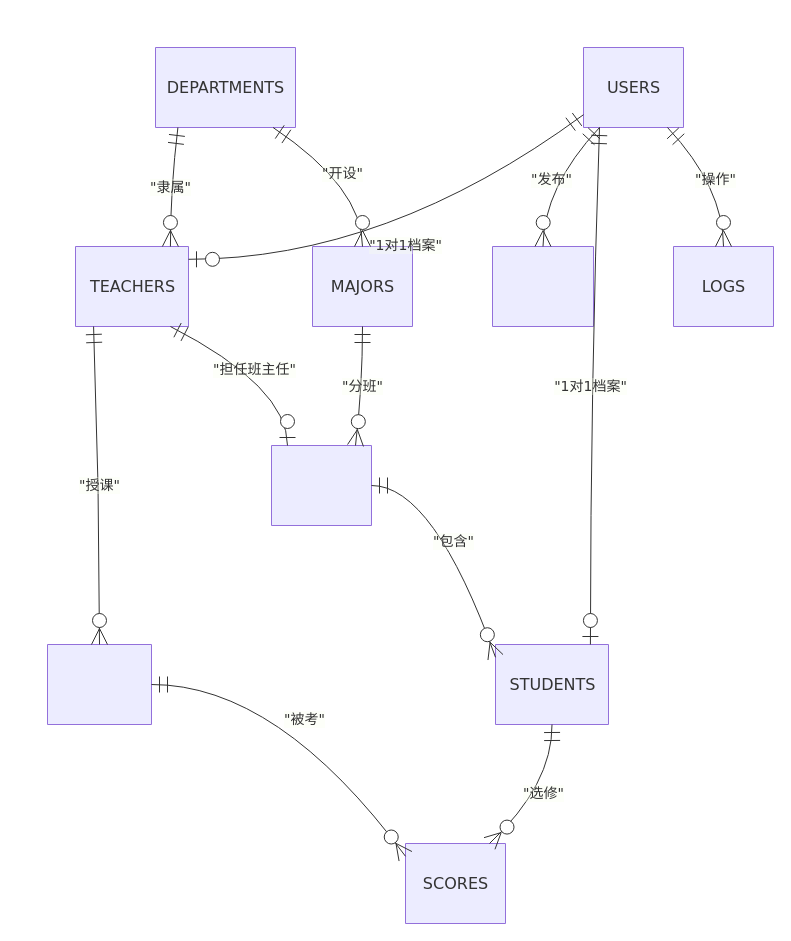
This 791x941 diagram has some shape labels left out. Each missing label, with the box of its shape:
CLASSES: (270, 444, 372, 526)
COURSES: (46, 644, 152, 724)
NOTICES: (492, 246, 594, 326)
